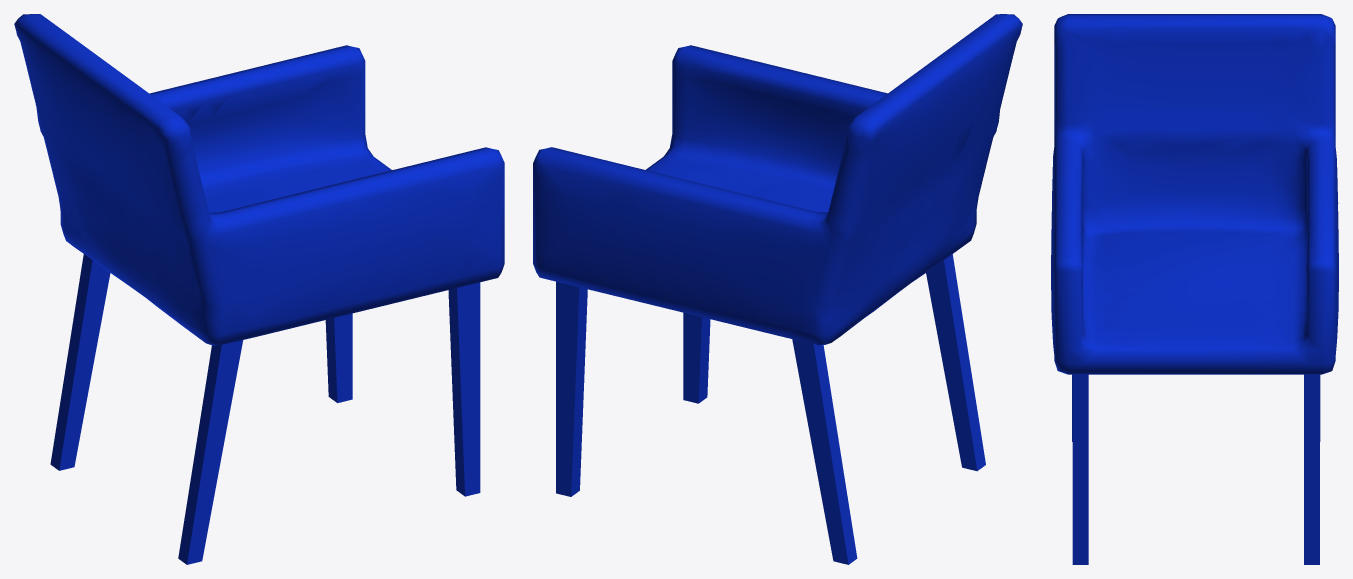
File: Nils.fbx
3 views of the same model, side by side, from view 1: azimuth 30°, elevation 25°; view 2: azimuth 150°, elevation 25°; view 3: azimuth 270°, elevation 25° (orthographic). The views are drawn at different scales.
Visible parts, largest first — view 1: LOW.001; view 2: LOW.001; view 3: LOW.001.
Part boxes in pixels (<box>): LOW.001: <box>14,14,504,564</box>; LOW.001: <box>533,14,1022,564</box>; LOW.001: <box>1051,14,1338,564</box>.
Bounding box in the file's own units: 158 × 199 × 127.
